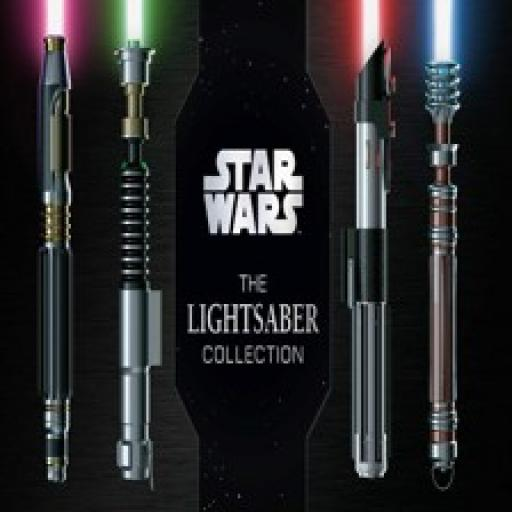lightsaber: (117, 0, 166, 483), (39, 0, 78, 493), (425, 0, 463, 492)
sith saber: (351, 0, 393, 478)
